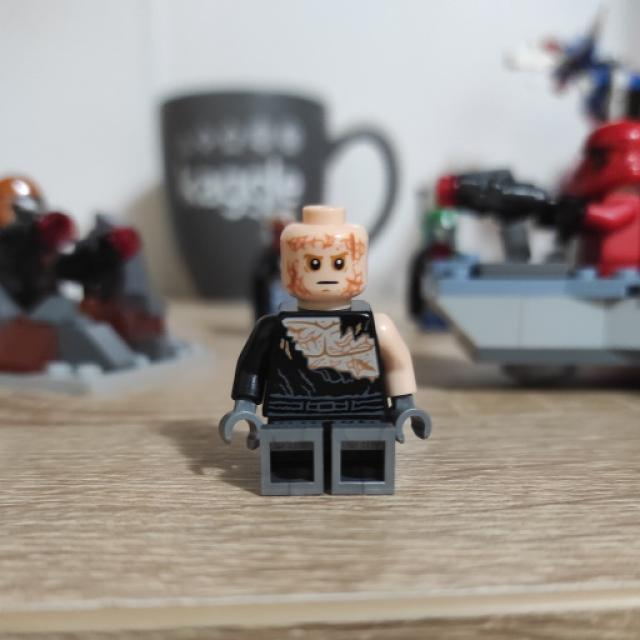Lego-Minifigures: (192, 179, 480, 520)
